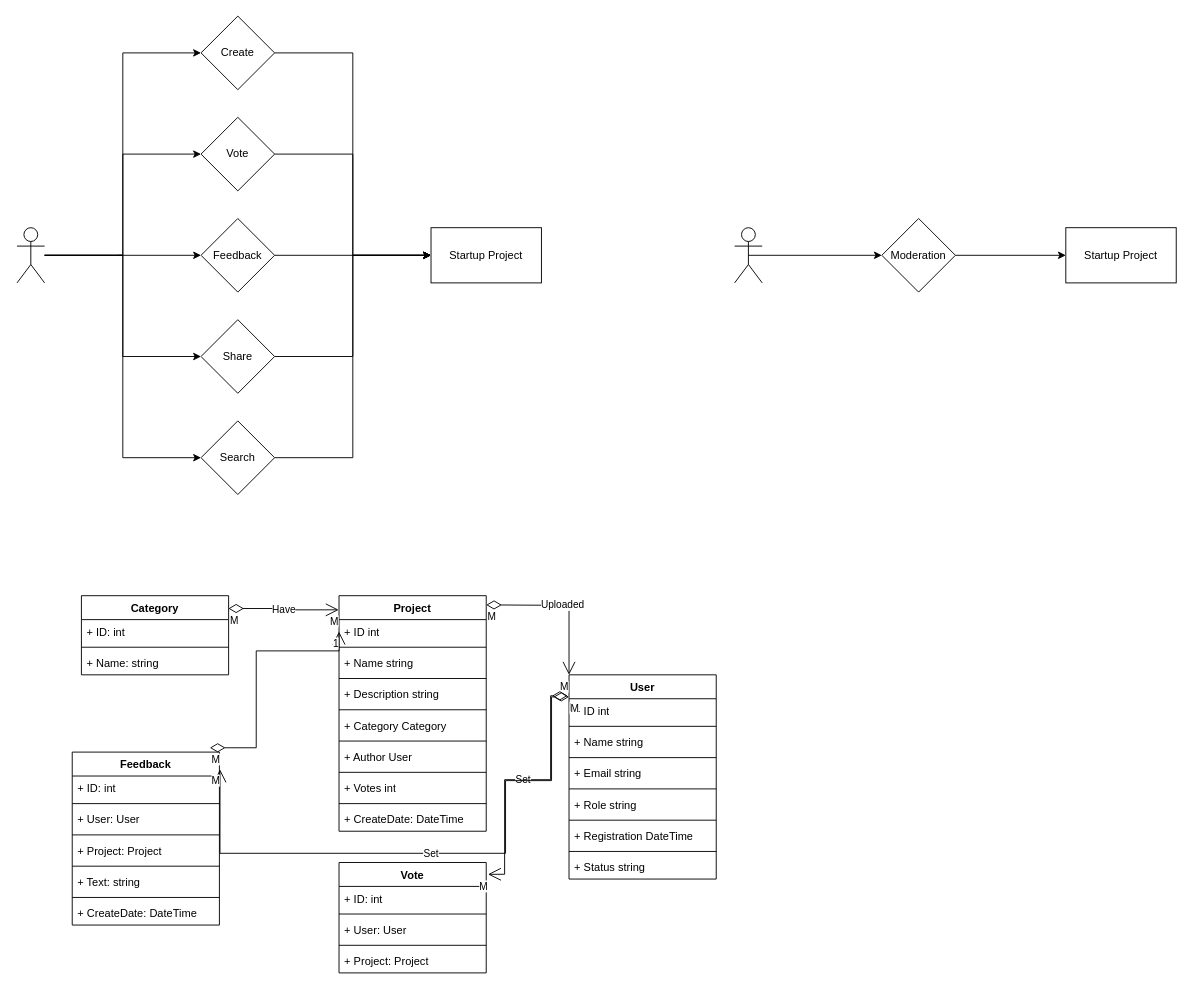
Image size: 1192x992. Some labels were removed from this diagram. Each missing label, with the centre of its shape:
Admin: (748,255)
Visitor: (30,255)
